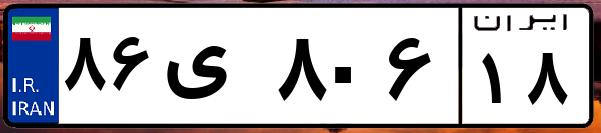0: (330, 28, 385, 110)
1: (475, 38, 525, 113)
6: (385, 28, 445, 110), (110, 28, 158, 98)
8: (270, 28, 330, 110), (57, 26, 110, 100), (525, 38, 570, 115)
ی: (158, 20, 270, 120)
